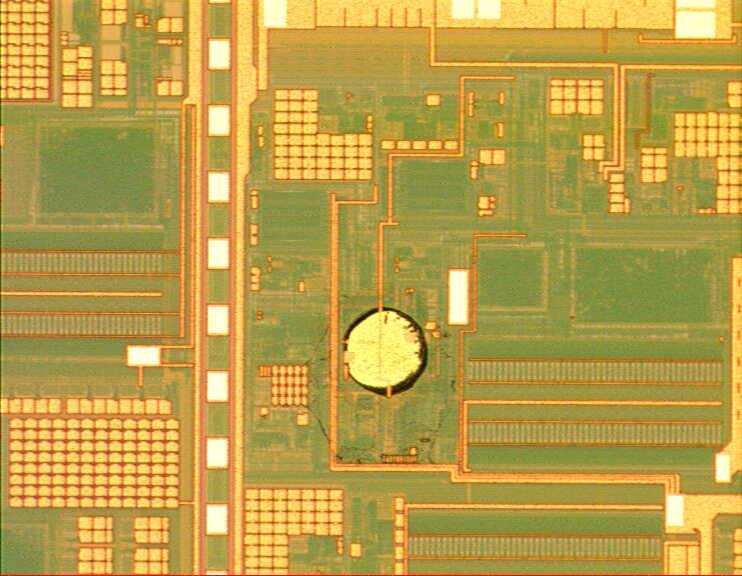BLOCK ETCH: (337, 305, 433, 401)
